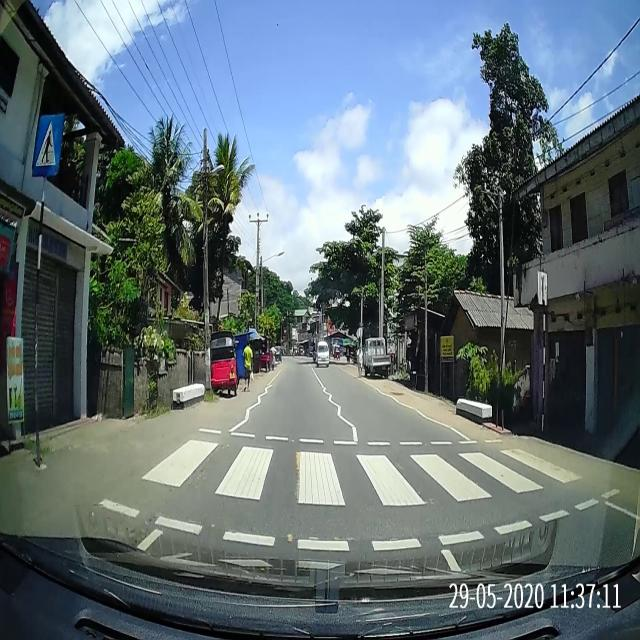Crosswalk: (80, 422, 637, 558)
